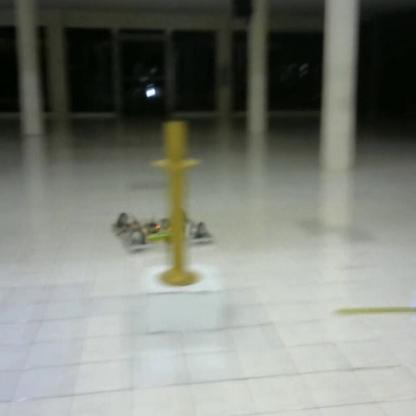pole: (144, 115, 210, 299)
